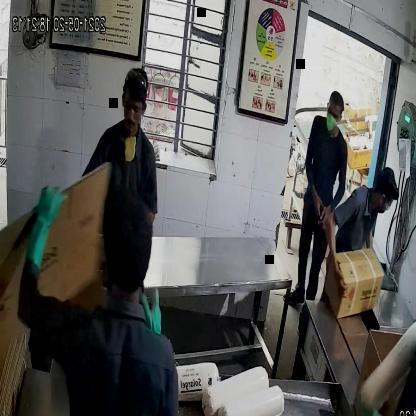no_goggles: (121, 96, 148, 115)
